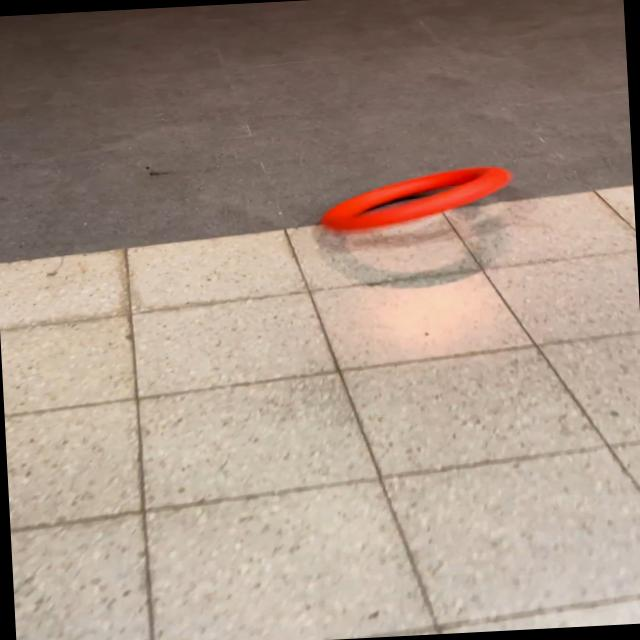note: (314, 163, 516, 236)
